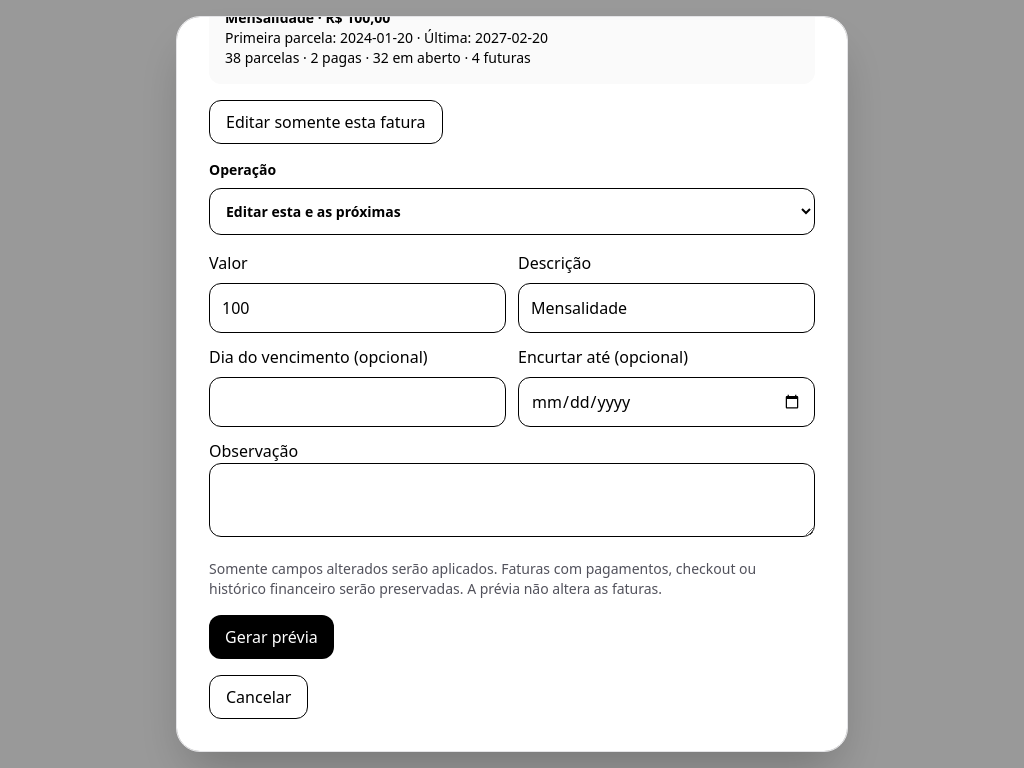
mudança concorrente exige nova prévia e mostra mensagem segura
This screenshot has width=1024, height=768.
(page scrolled)
Click the button "Gerar prévia" at (271, 637), box [209,615,334,659]
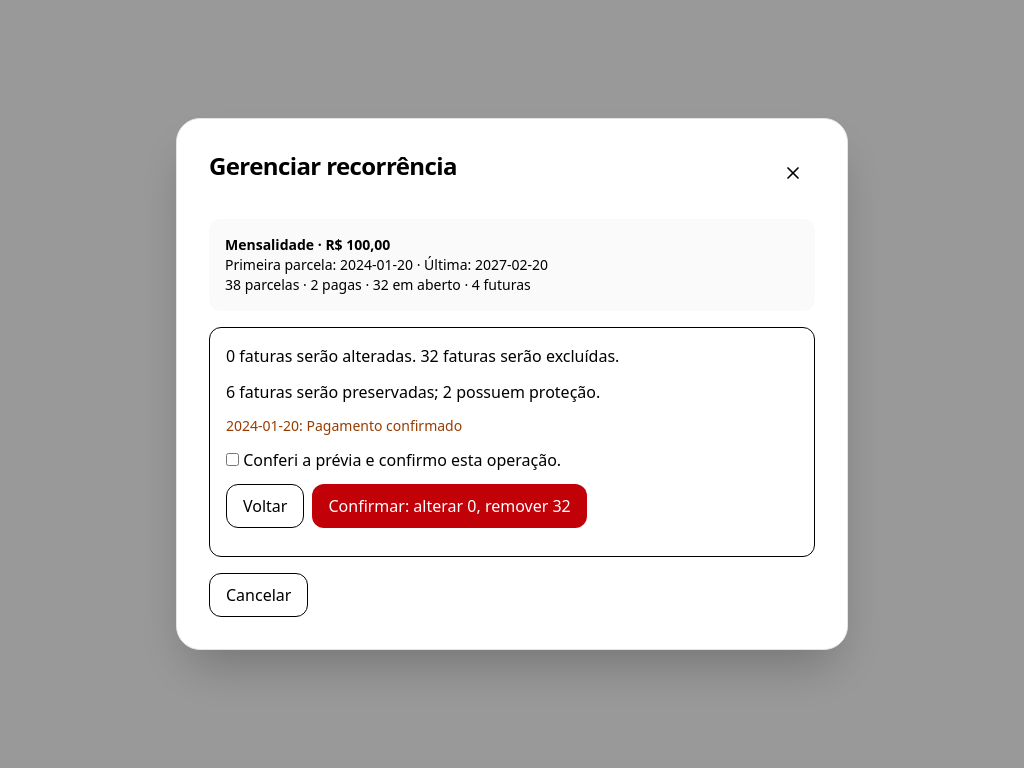
Check: the element named "Prévia da operação" is shown, box [209,327,815,557]
Click the checkbox at (232, 460), box [226,453,239,466]
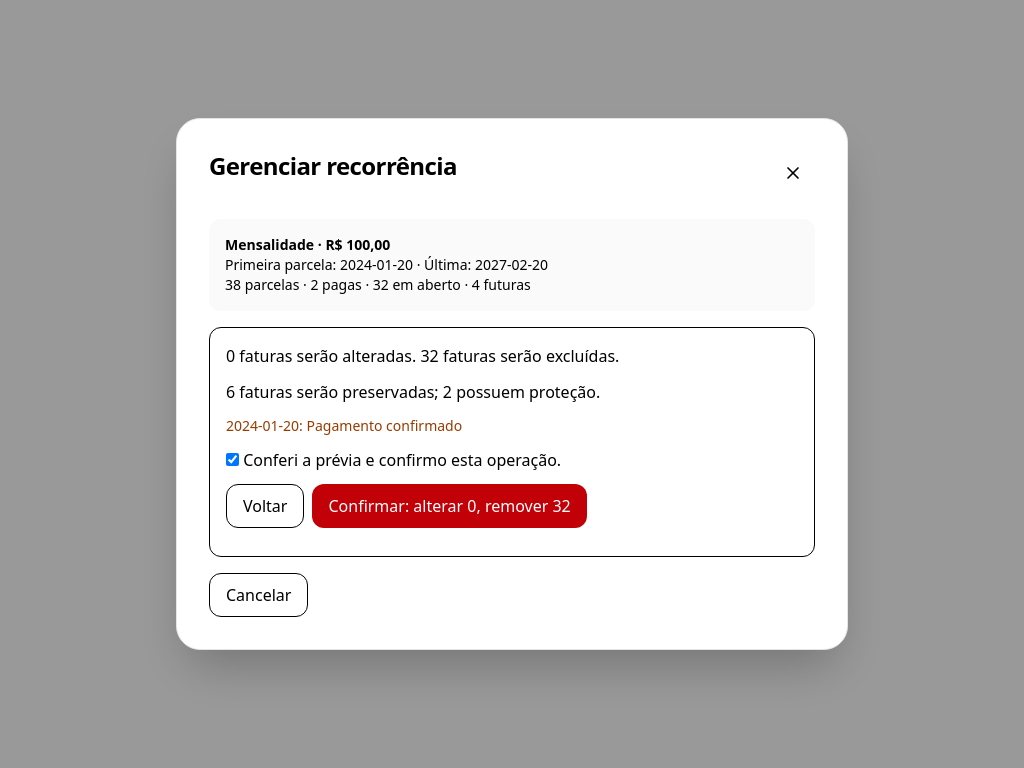
Click the button "Confirmar: alterar 0, remover 32" at (450, 506), box [312,484,587,528]
(page scrolled)
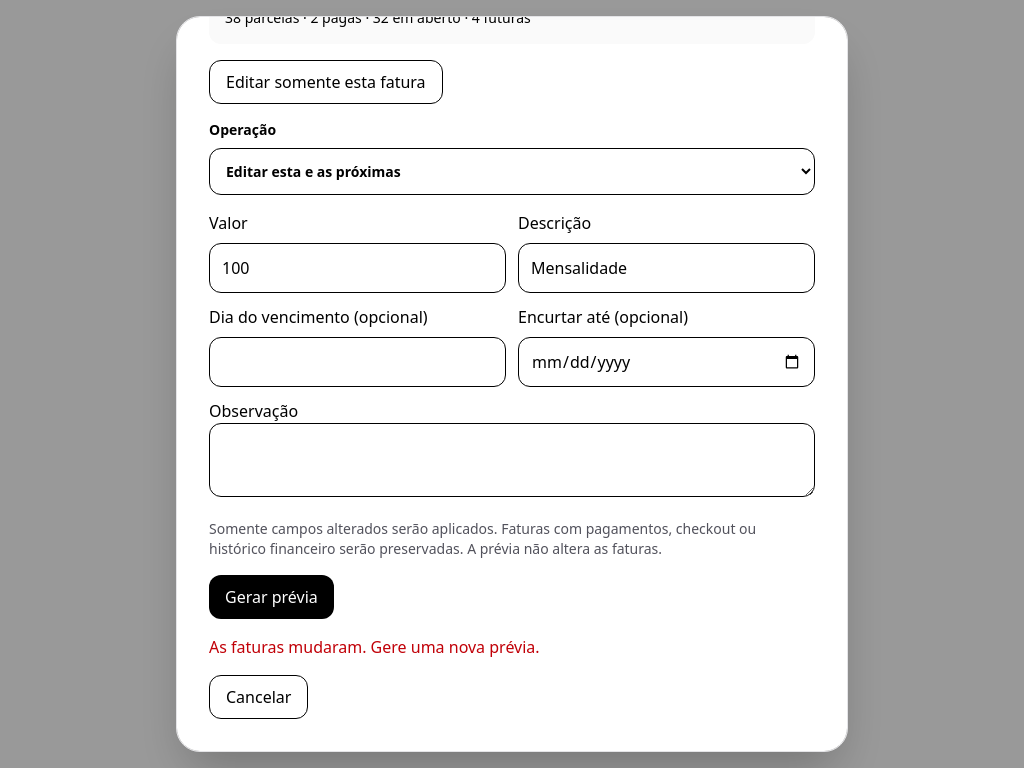
Check: the message shows "Gere uma nova prévia", box [209,636,540,658]
